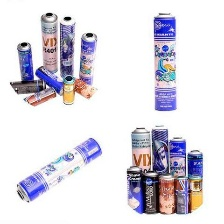aerosol_cans: (11, 136, 106, 206), (150, 9, 179, 113), (129, 125, 152, 192), (38, 10, 61, 74), (167, 132, 188, 194), (150, 121, 169, 188), (185, 147, 208, 200), (57, 15, 74, 77), (79, 30, 97, 87), (14, 39, 36, 83)
can: (32, 62, 70, 95), (139, 167, 162, 216), (125, 162, 146, 214), (68, 74, 102, 106), (155, 170, 177, 216), (185, 172, 207, 217), (5, 77, 49, 97), (20, 85, 58, 108), (172, 173, 192, 216), (61, 74, 76, 106)
